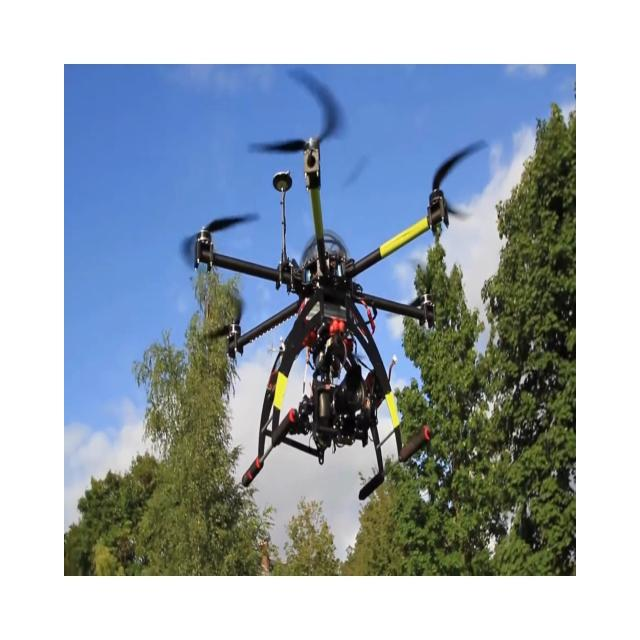drone: (180, 66, 489, 501)
